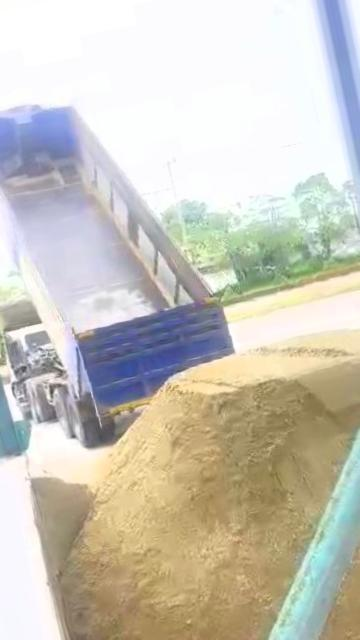sand: (62, 328, 360, 640), (309, 428, 360, 640), (31, 470, 93, 578)
